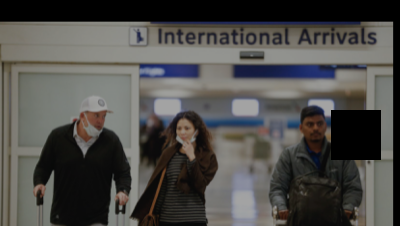mask_weared_incorrect: (84, 110, 107, 132), (176, 123, 196, 143)
without_mask: (303, 117, 326, 140)
